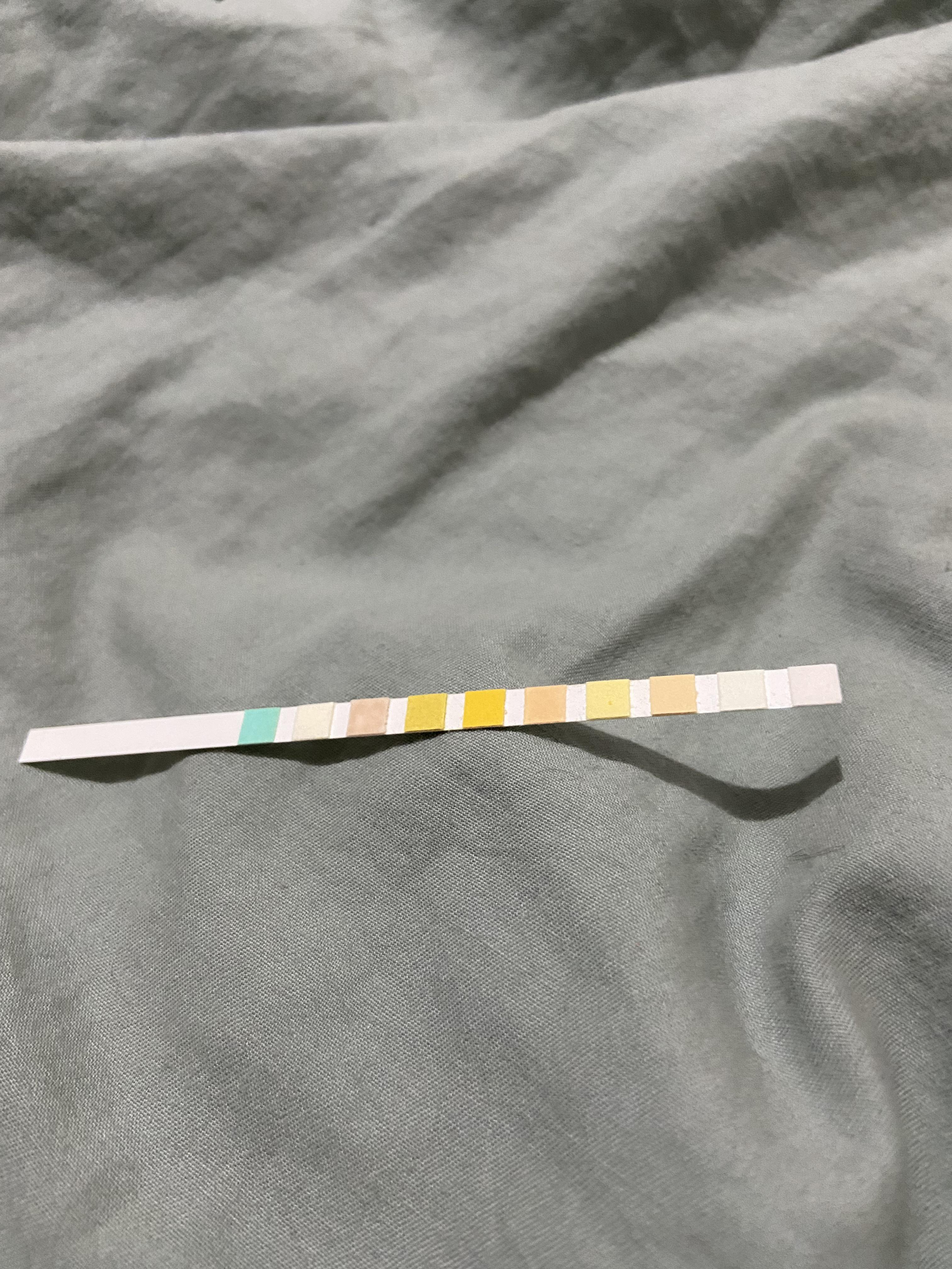Bilirubin: (297, 706, 329, 738)
Blood: (467, 692, 504, 726)
Glucose: (244, 711, 275, 742)
Ketone: (351, 701, 386, 732)
Leukocytes: (793, 667, 838, 705)
Nitrite: (719, 674, 762, 709)
Protein: (588, 682, 629, 717)
SpGravity: (408, 696, 445, 729)
Urobilinogen: (651, 677, 696, 712)
pH: (526, 688, 565, 724)
strip: (18, 665, 843, 762)
